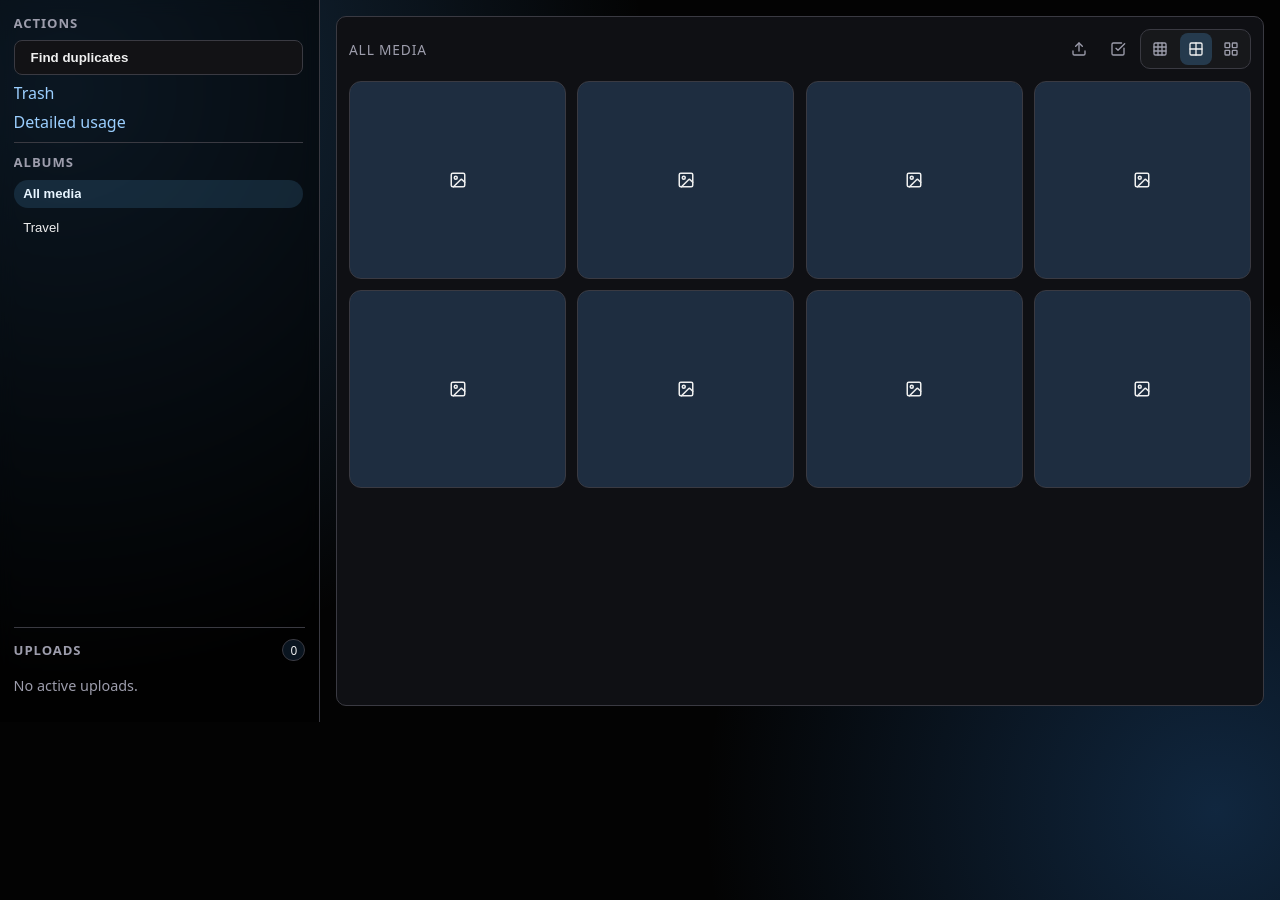
Scenario: DockspaceMediaPage › switches to an album from the sidebar list
expect the heading "Albums" is shown: met, box [14,153,74,171]
Click the button "Travel" at (41, 227), box [14,213,303,242]
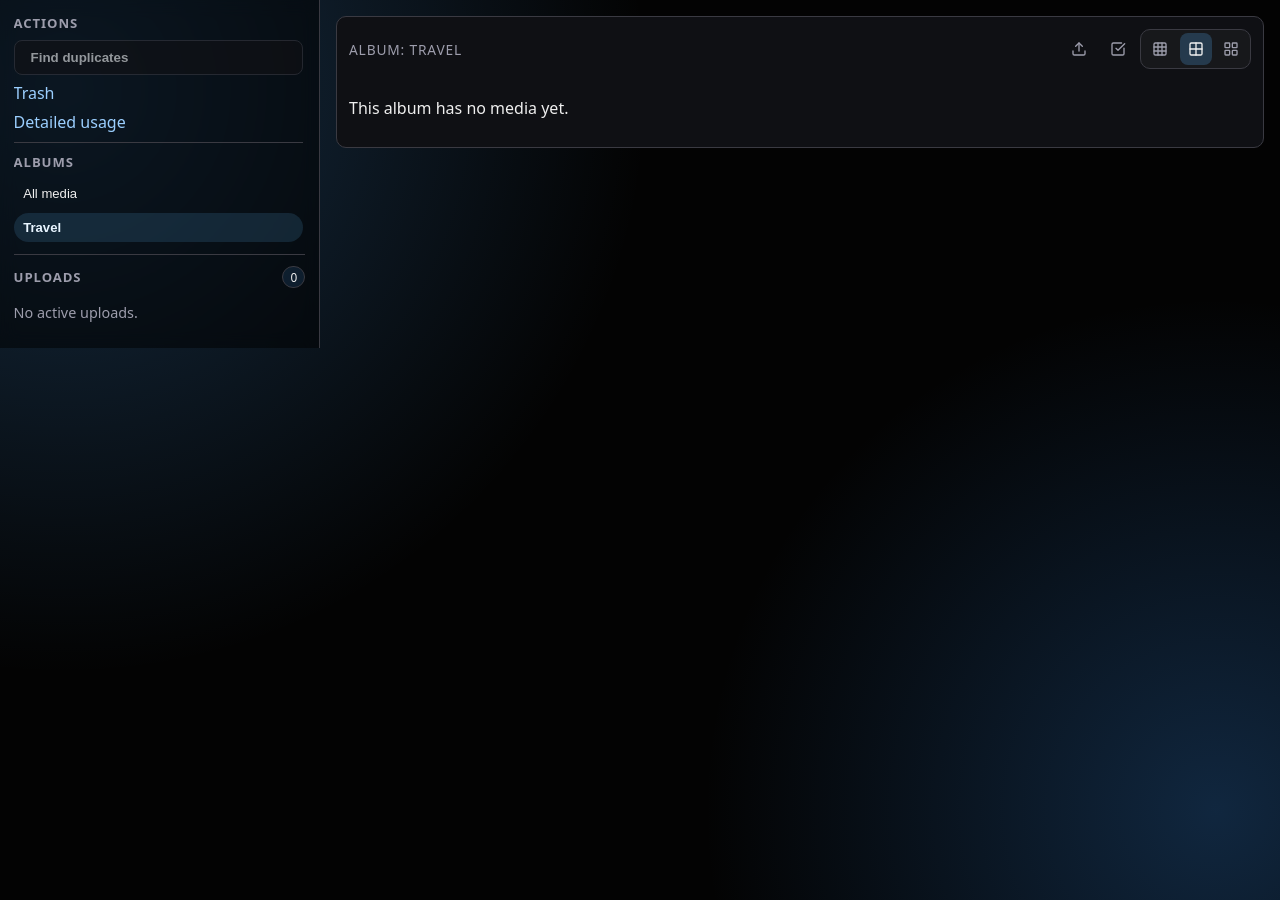
expect the text "Album: Travel" is shown: met, box [349,40,462,59]
